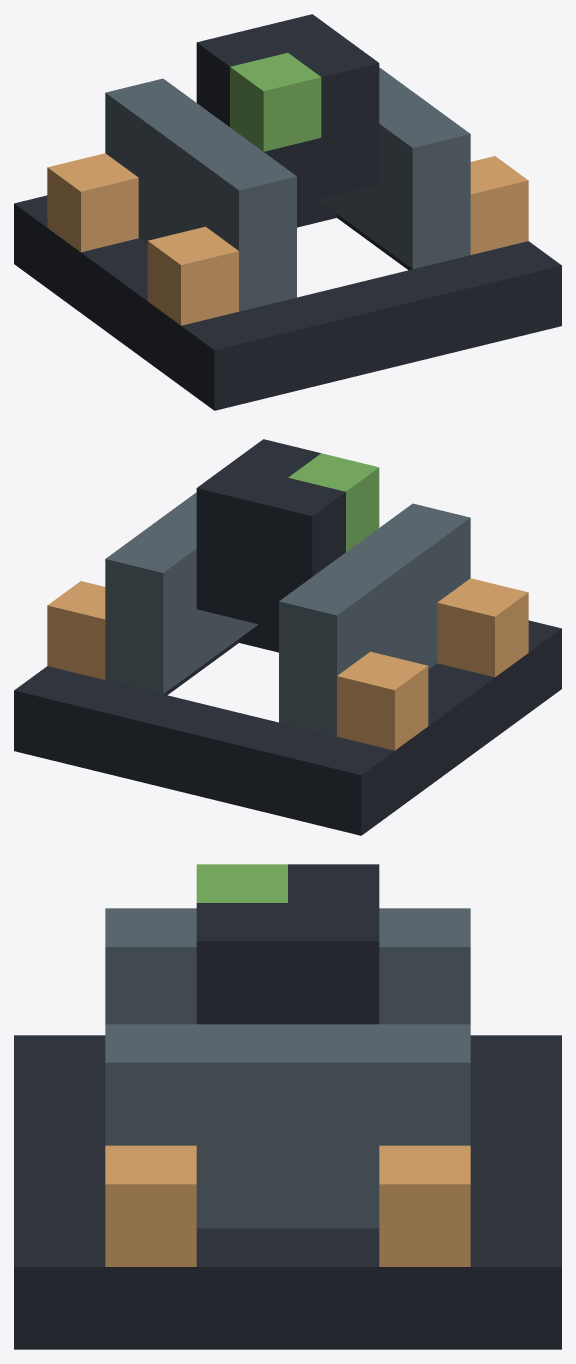
File: steering_encoder_jig.glb
3 views of the same model, one above another, from view 1: azimuth 30°, elevation 25°; view 2: azimuth 150°, elevation 25°; view 3: azimuth 270°, elevation 25° (orthographic). The views are drawn at different scales.
Parts seen in each view (by area): view 1: prop; view 2: prop; view 3: prop.
Part boxes in pixels (box(x1,y1,x2,y2)): prop: box(14, 14, 561, 410); prop: box(14, 439, 561, 835); prop: box(14, 864, 561, 1349).
Bounding box in the file's own units: 6 × 4 × 6.
